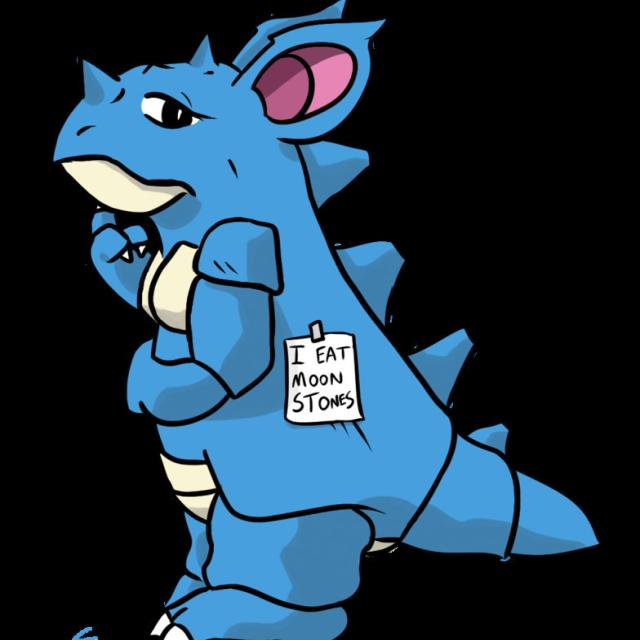Nidoqueen: (31, 2, 510, 590)
